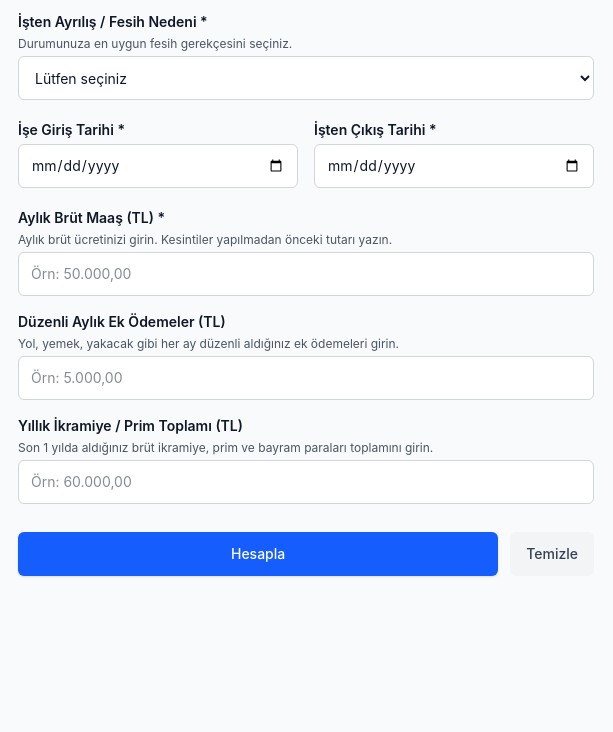
CalculatorForm — Render ve Etkileşim Testleri › employer_unfair seçildiğinde ihbar sorusunun göründüğünü, başka neden seçildiğinde gizlendiğini doğrulamalı
Expected: the field labelled "İhbar Süresi Kullandırıldı mı?" is not shown
employer_unfair seçildiğinde görünmeli
Select "İşveren beni haklı bir neden olmadan işten çıkardı" in the dropdown labelled "İşten Ayrılış / Fesih Nedeni *". click: x=306, y=78
box: [18,56,594,100]
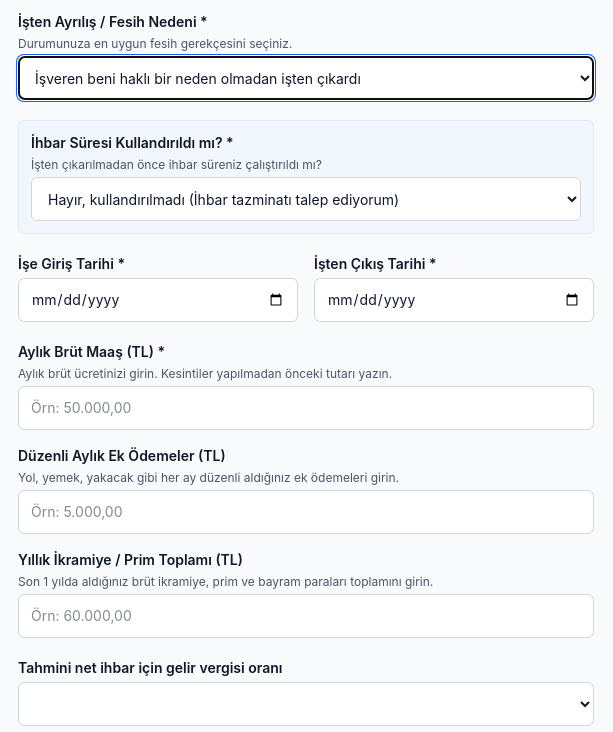
Result: the dropdown labelled "İhbar Süresi Kullandırıldı mı? *" is shown at [31,177,581,221]
Başka neden seçildiğinde gizlenmeli
Select "Kendi isteğimle, haklı bir neden olmadan istifa ettim" in the dropdown labelled "İşten Ayrılış / Fesih Nedeni *". click: x=306, y=78
box: [18,56,594,100]
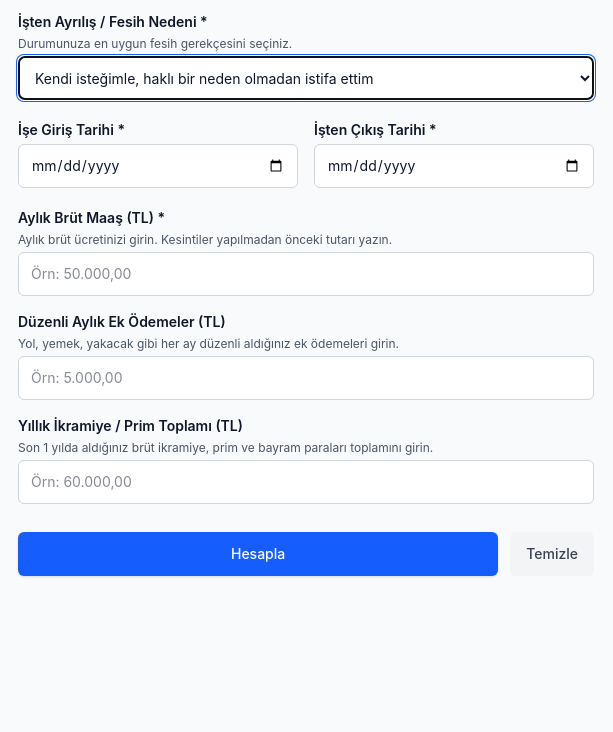
Result: the label labelled "İhbar Süresi Kullandırıldı mı?" is gone
